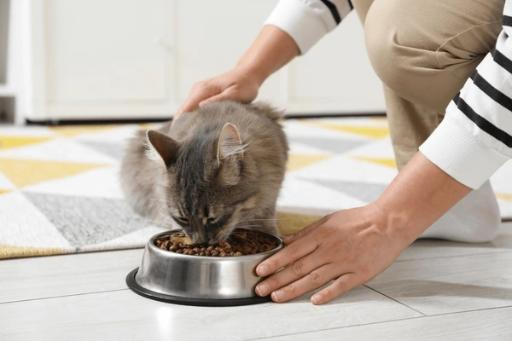cat_eating: (121, 102, 288, 305)
